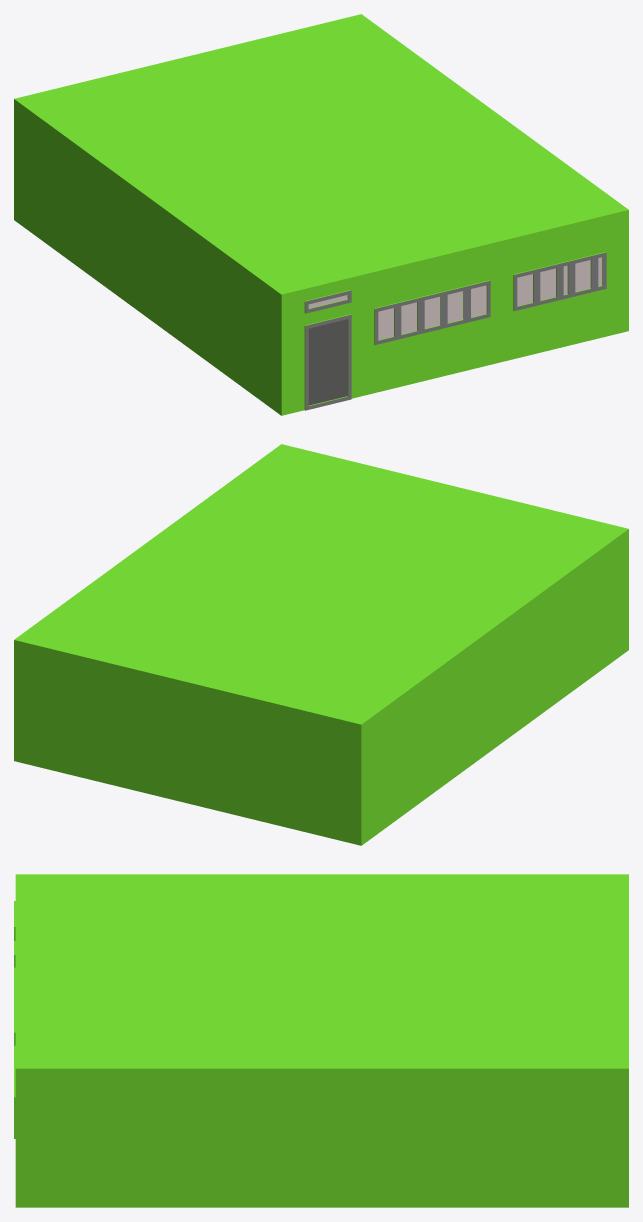
File: casa3.fbx
3 renders of one model, top to bottom at view 1: azimuth 30°, elevation 25°; view 2: azimuth 150°, elevation 25°; view 3: azimuth 270°, elevation 25°, orthographic. The views are drawn at different scales.
Parts seen in each view (by area): view 1: Cubo; view 2: Cubo; view 3: Cubo.
Part boxes in pixels (box(x1,y1,x2,y2)): Cubo: box(14, 14, 628, 415); Cubo: box(14, 444, 628, 845); Cubo: box(14, 874, 628, 1207).
Size of the model in its own units: 300 by 100 by 401.
